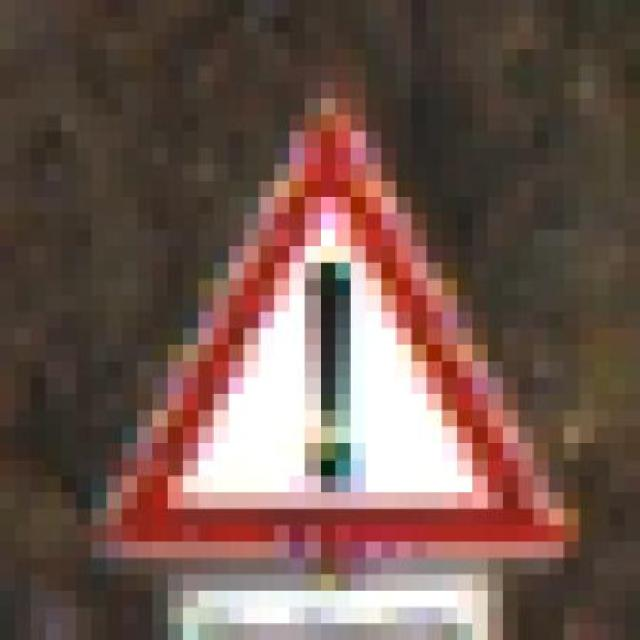Attention Please-: (46, 98, 594, 574)
